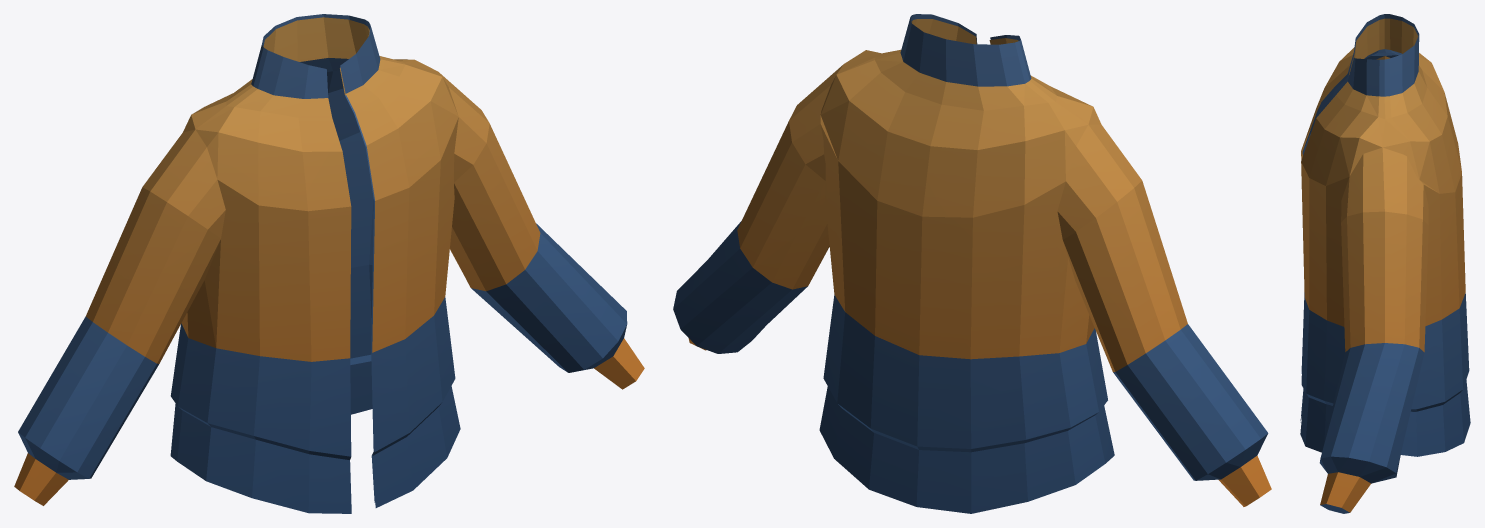
File: collectable_jacket.fbx
3 renders of one model, left to right at view 1: azimuth 30°, elevation 25°; view 2: azimuth 150°, elevation 25°; view 3: azimuth 270°, elevation 25°, orthographic. The views are drawn at different scales.
Parts seen in each view (by area): view 1: quest_jacket; view 2: quest_jacket; view 3: quest_jacket.
Boxes of the visible parts, x1,y1,x2,y2 form: quest_jacket: [14, 14, 644, 513]; quest_jacket: [673, 14, 1271, 513]; quest_jacket: [1300, 14, 1470, 513].
Size of the model in its own units: 2 by 1.43 by 0.5562.
